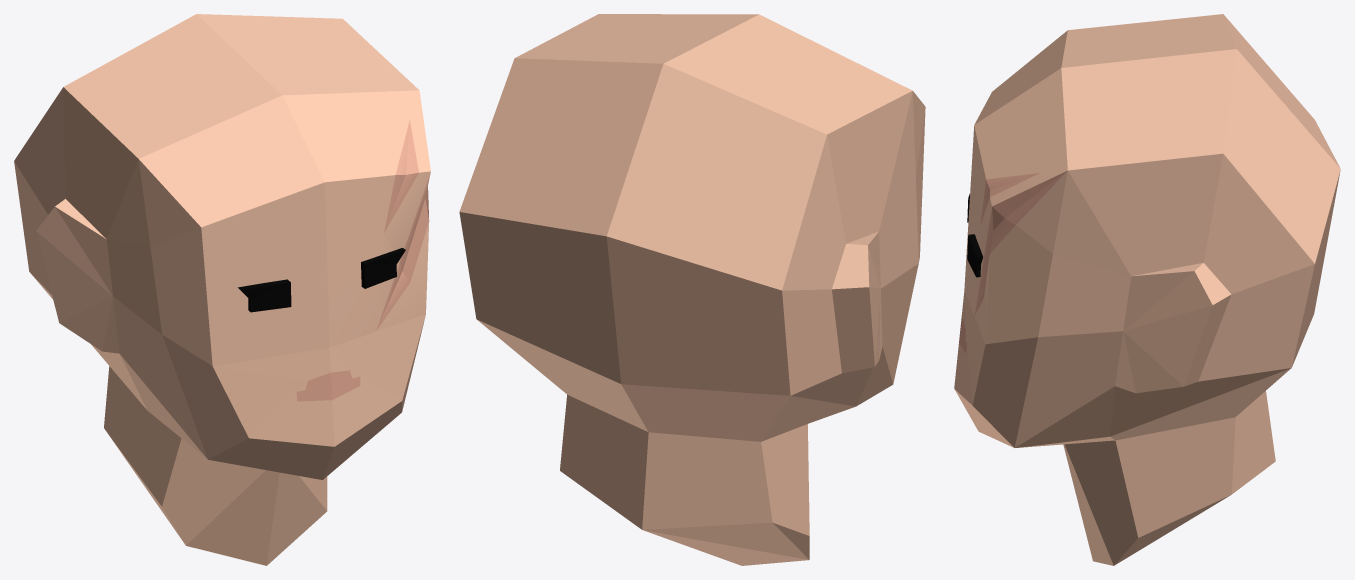
File: Chr_Head_Female_02_Static.fbx
3 renders of one model, left to right at view 1: azimuth 30°, elevation 25°; view 2: azimuth 150°, elevation 25°; view 3: azimuth 270°, elevation 25°, orthographic. The views are drawn at different scales.
Visible parts, largest first — view 1: Chr_Head_Female_02_Static; view 2: Chr_Head_Female_02_Static; view 3: Chr_Head_Female_02_Static.
Boxes of the visible parts, bbox=[...] form: Chr_Head_Female_02_Static: bbox=[14, 14, 430, 565]; Chr_Head_Female_02_Static: bbox=[459, 14, 925, 565]; Chr_Head_Female_02_Static: bbox=[954, 14, 1340, 565].
Size of the model in its own units: 0.2661 by 0.3693 by 0.2526.
